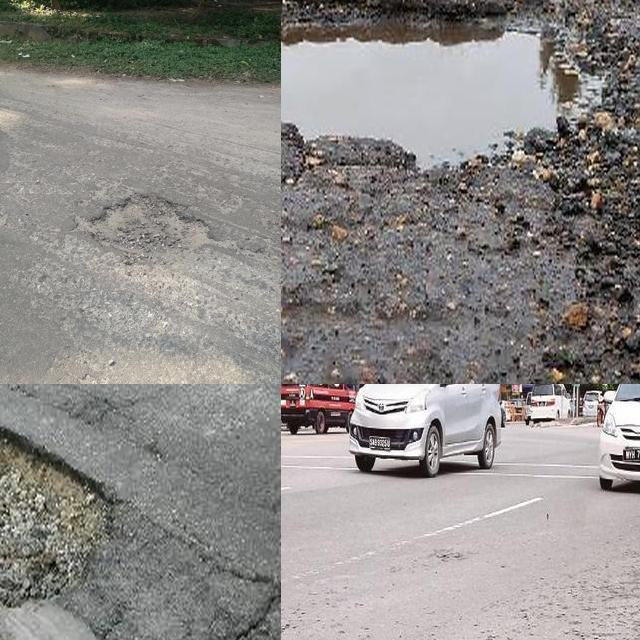Lubang: (281, 0, 616, 166), (0, 429, 115, 616), (74, 194, 212, 257)
